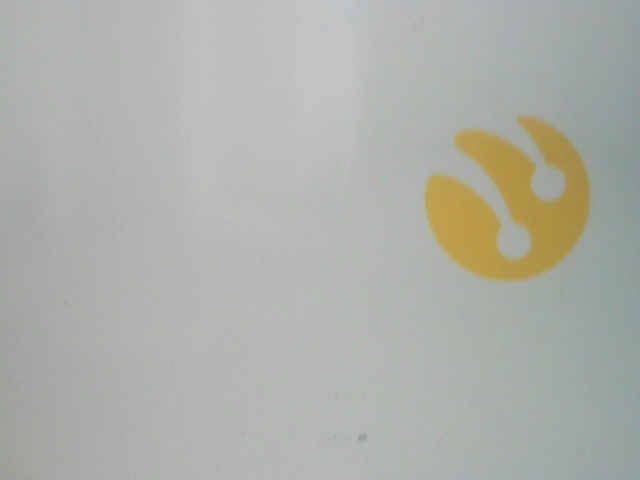AV_H3600Yellow: (409, 107, 605, 286)
